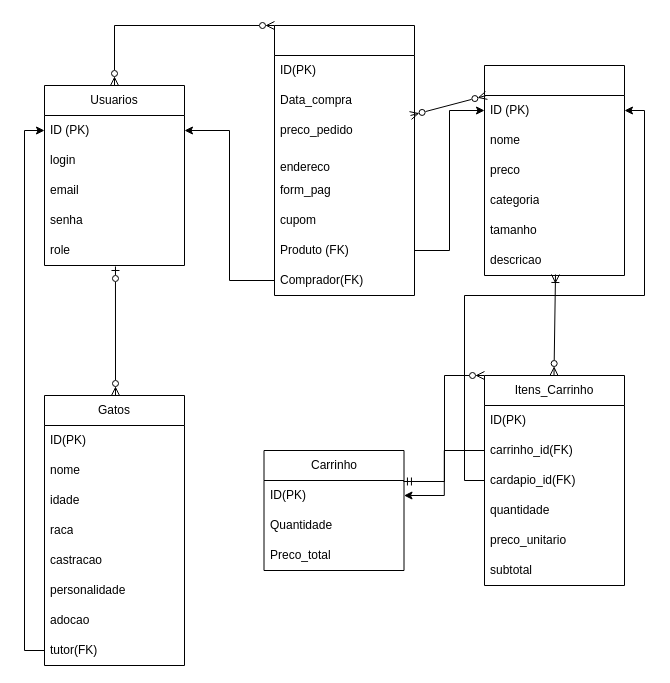
This 670x683 diagram has some shape labels left out. The shapes that lost their labels are listed below. From the top down, each one's box as (x1, y1, x2, y2) in pixels, then its label:
(274, 24, 414, 296): pedidos
(484, 64, 624, 276): Cardapio
